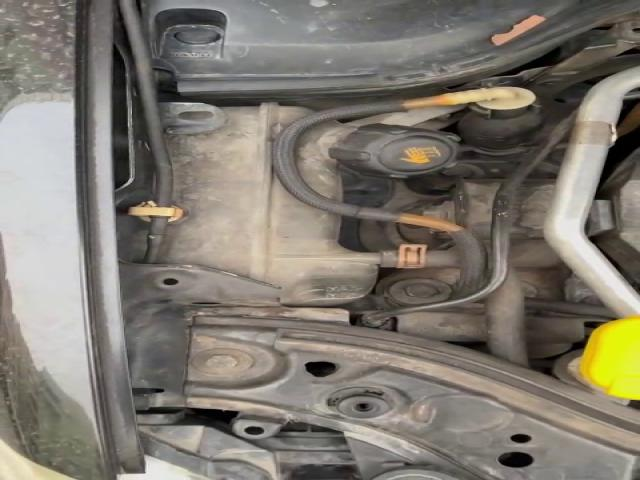antifreeze_tank: (161, 104, 378, 305), (298, 121, 459, 200)
